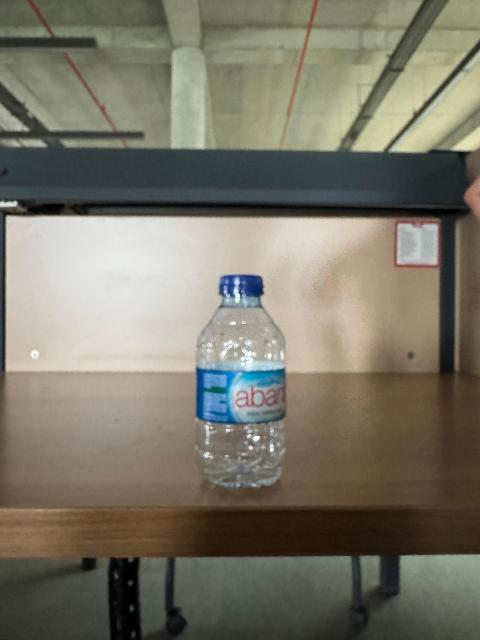Plastik: (183, 271, 298, 494)
